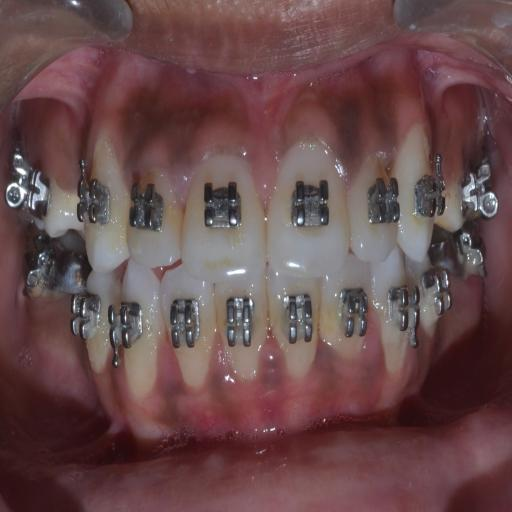correct_brace: (198, 180, 247, 234), (289, 175, 331, 231), (130, 182, 166, 239), (170, 290, 202, 352), (283, 288, 316, 348), (368, 175, 402, 230), (223, 291, 256, 346)
incorrect_brace: (160, 264, 211, 396), (351, 159, 402, 261), (128, 170, 180, 265)
